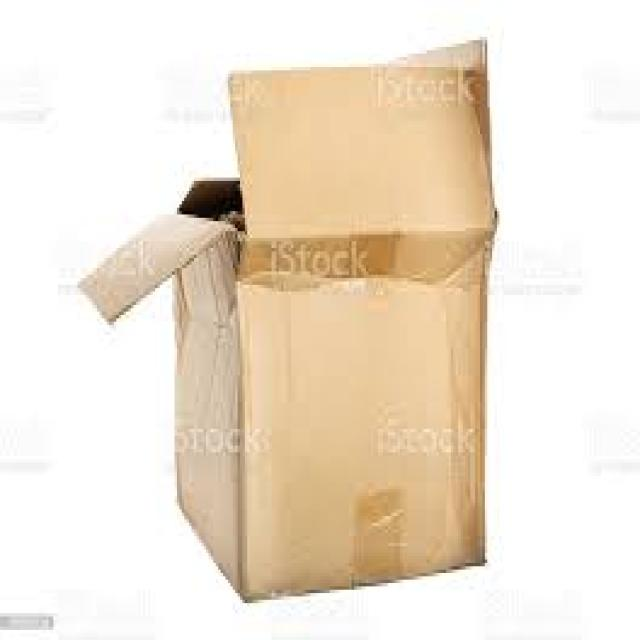cardboard: (71, 33, 495, 600)
